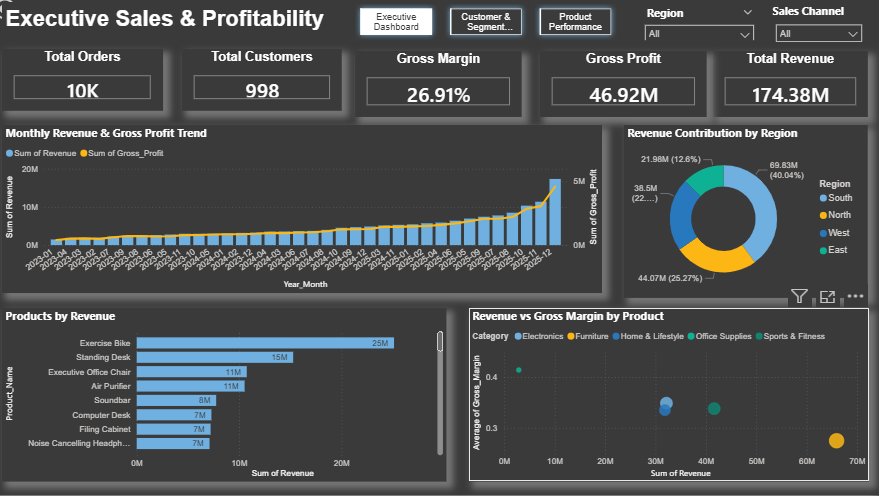

This screenshot's page, from the dashboard's own definition file:
{"tool":"powerbi","page":{"name":"Executive Dashboard","canvas":[1280,720],"ordinal":0},"visuals":[{"type":"cardVisual","title":"Total Revenue","fields":{"Data":["Sum(nexamart_analytics fact_customer_profitability.Revenue)"]},"box":[1039.7,80.6,223.2,95],"z":0},{"type":"cardVisual","title":"Gross Profit","fields":{"Data":["Sum(nexamart_analytics fact_customer_profitability.Gross_Profit)"]},"box":[790.6,80.6,240.5,95],"z":1000},{"type":"cardVisual","title":"Gross Margin","fields":{"Data":["DimRegion.Gross Margin %"]},"box":[524.2,80.6,240.5,95],"z":2000},{"type":"cardVisual","title":"Total Customers","fields":{"Data":["Count(nexamart_analytics fact_customer_profitability.Customer_ID)"]},"box":[275,77.8,230.4,89.3],"z":3000},{"type":"cardVisual","title":"Total Orders","fields":{"Data":["CountNonNull(nexamart_analytics fact_customer_profitability.Order_ID)"]},"box":[15.8,77.8,231.8,89.3],"z":4000},{"type":"lineClusteredColumnComboChart","title":"Monthly Revenue & Gross Profit Trend","fields":{"Y":["Sum(nexamart_analytics fact_customer_profitability.Revenue)"],"Y2":["Sum(nexamart_analytics fact_customer_profitability.Gross_Profit)"],"Category":["nexamart_analytics fact_customer_profitability.Year_Month"]},"box":[15.8,187.2,864,241.9],"z":5000},{"type":"donutChart","title":"Revenue Contribution by Region","fields":{"Category":["nexamart_analytics fact_customer_profitability.Region"],"Y":["Sum(nexamart_analytics fact_customer_profitability.Revenue)"]},"box":[911.5,187.2,351.4,249.1],"z":6000},{"type":"clusteredBarChart","title":"Products by Revenue","fields":{"Category":["nexamart_analytics fact_customer_profitability.Product_Name"],"Y":["Sum(nexamart_analytics fact_customer_profitability.Revenue)"]},"box":[16,450,640,250],"z":7000},{"type":"scatterChart","title":"Revenue vs Gross Margin by Product","fields":{"X":["Sum(nexamart_analytics fact_customer_profitability.Revenue)"],"Y":["Avg(nexamart_analytics fact_customer_profitability.Gross_Margin)"],"Series":["nexamart_analytics fact_customer_profitability.Category"],"Size":["Sum(nexamart_analytics fact_customer_profitability.Gross_Profit)"]},"box":[688,450,576,250],"z":8000},{"type":"actionButton","box":[0,0,100,40],"z":9000},{"type":"textbox","box":[15.8,10.1,469.4,54.7],"z":10000},{"type":"slicer","fields":{"Values":["nexamart_analytics fact_customer_profitability.Region"]},"box":[887,10.1,177.1,54.7],"z":11000},{"type":"pageNavigator","box":[485.3,10.1,387.4,54.7],"z":12000},{"type":"slicer","title":"Sales Channel","fields":{"Values":["nexamart_analytics fact_customer_profitability.Sales_Channel"]},"box":[1074.2,10.1,144,56.2],"z":13000}]}

Visuals, with their boxes in screenshot pixels (x1, y1, x2, y2), scaled from the page's 1280x720 canvas onto the 879x496 screenshot:
"Total Revenue" cardVisual: <bbox>714, 56, 867, 121</bbox>
"Gross Profit" cardVisual: <bbox>543, 56, 708, 121</bbox>
"Gross Margin" cardVisual: <bbox>360, 56, 525, 121</bbox>
"Total Customers" cardVisual: <bbox>189, 54, 347, 115</bbox>
"Total Orders" cardVisual: <bbox>11, 54, 170, 115</bbox>
"Monthly Revenue & Gross Profit Trend" lineClusteredColumnComboChart: <bbox>11, 129, 604, 296</bbox>
"Revenue Contribution by Region" donutChart: <bbox>626, 129, 867, 301</bbox>
"Products by Revenue" clusteredBarChart: <bbox>11, 310, 450, 482</bbox>
"Revenue vs Gross Margin by Product" scatterChart: <bbox>472, 310, 868, 482</bbox>
actionButton: <bbox>0, 0, 69, 28</bbox>
textbox: <bbox>11, 7, 333, 45</bbox>
slicer - nexamart_analytics fact_customer_profitability.Region: <bbox>609, 7, 731, 45</bbox>
pageNavigator: <bbox>333, 7, 599, 45</bbox>
"Sales Channel" slicer: <bbox>738, 7, 837, 46</bbox>
